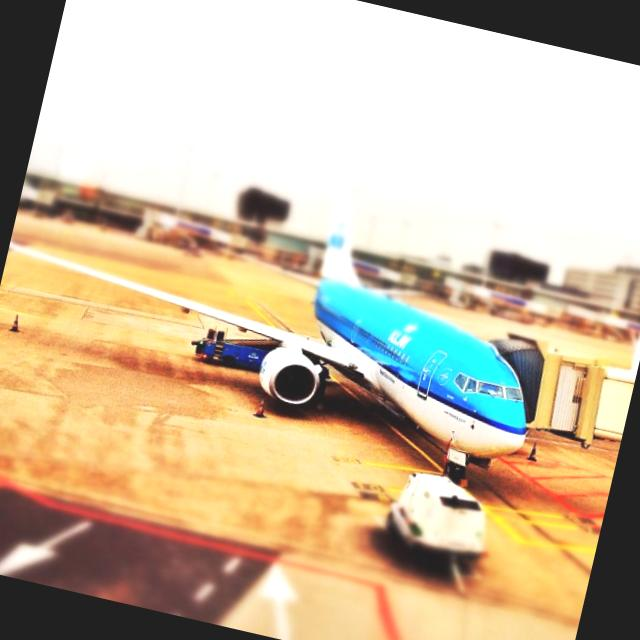Vehicle: (380, 463, 502, 566), (186, 319, 268, 370)
